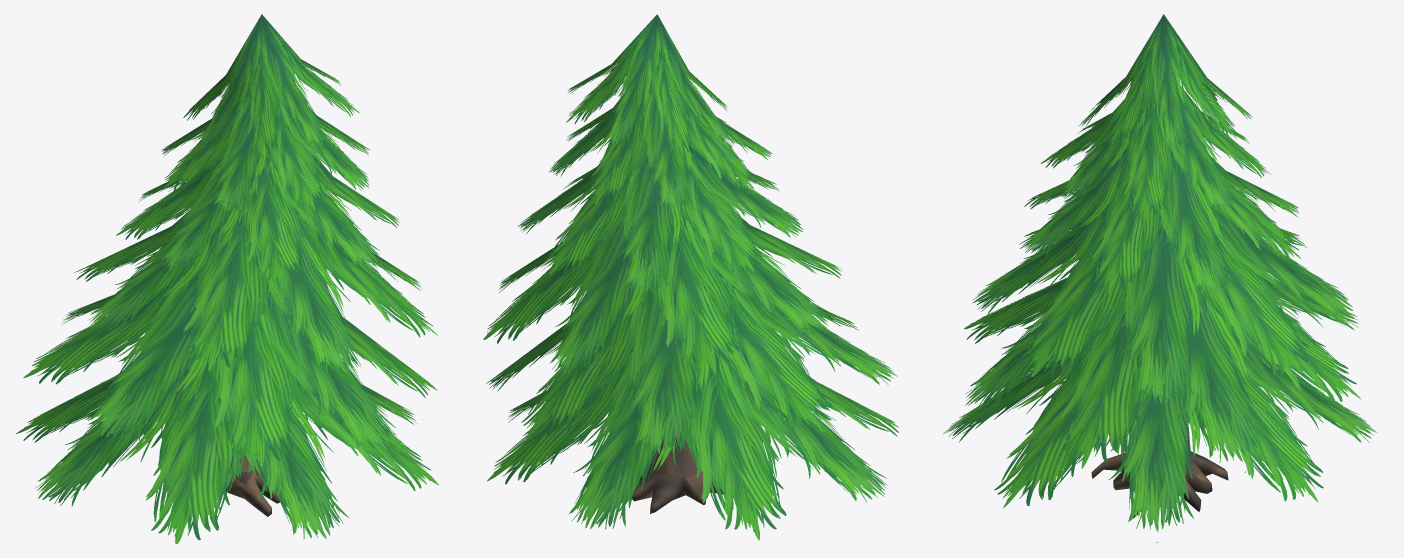
The model's file is SM_PineTree_SEB.fbx.
The picture shows the model from 3 angles, left to right: view 1: azimuth 30°, elevation 25°; view 2: azimuth 150°, elevation 25°; view 3: azimuth 270°, elevation 25°; orthographic projection.
Parts seen in each view (by area): view 1: SM_PineTree_SEB; view 2: SM_PineTree_SEB; view 3: SM_PineTree_SEB.
Boxes of the visible parts, x1,y1,x2,y2 form: SM_PineTree_SEB: [16, 14, 438, 543]; SM_PineTree_SEB: [483, 14, 898, 540]; SM_PineTree_SEB: [943, 14, 1376, 542].
Bounding box in the file's own units: 998 × 1172 × 999.
2 materials, 2 textured.
